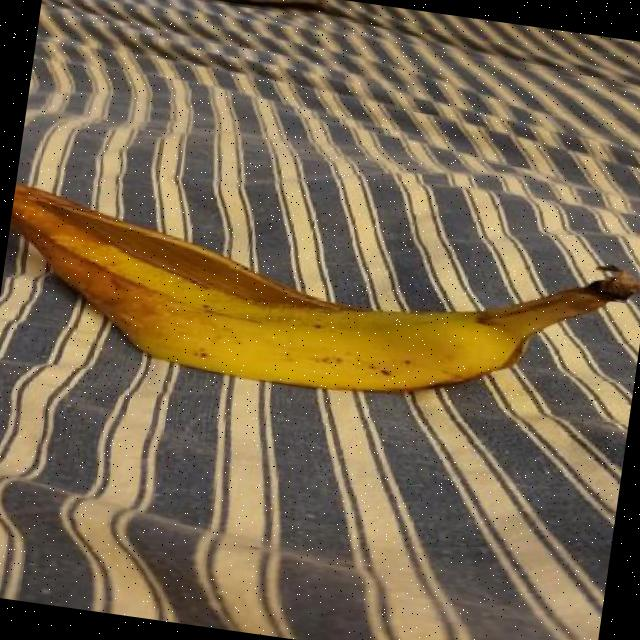banana-peel: (0, 176, 640, 433)
